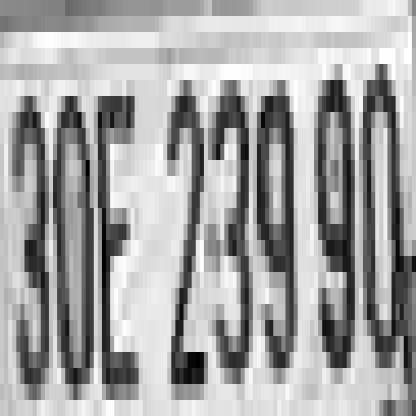0: (53, 96, 94, 384), (359, 80, 396, 352)
2: (167, 96, 208, 368)
3: (208, 80, 249, 368), (12, 96, 45, 384)
9: (253, 96, 294, 368), (314, 80, 351, 352)
E: (98, 96, 143, 384)
